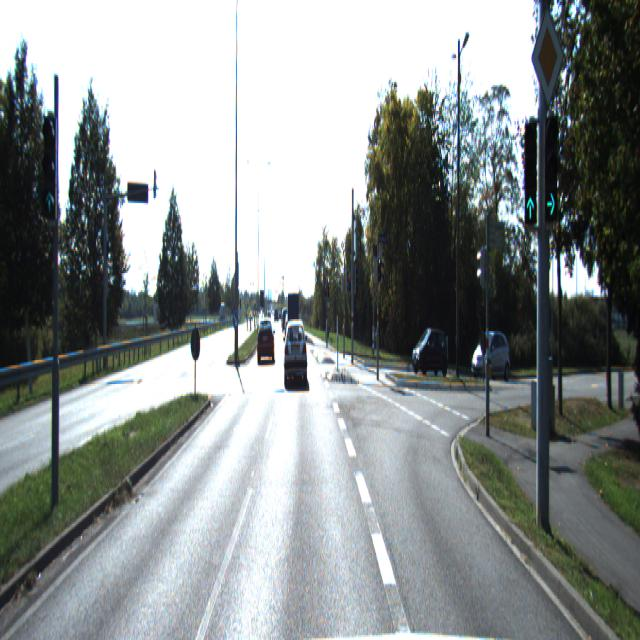Car: (471, 327, 512, 381), (412, 327, 450, 376), (284, 322, 308, 386), (257, 318, 274, 366), (287, 291, 300, 347)
